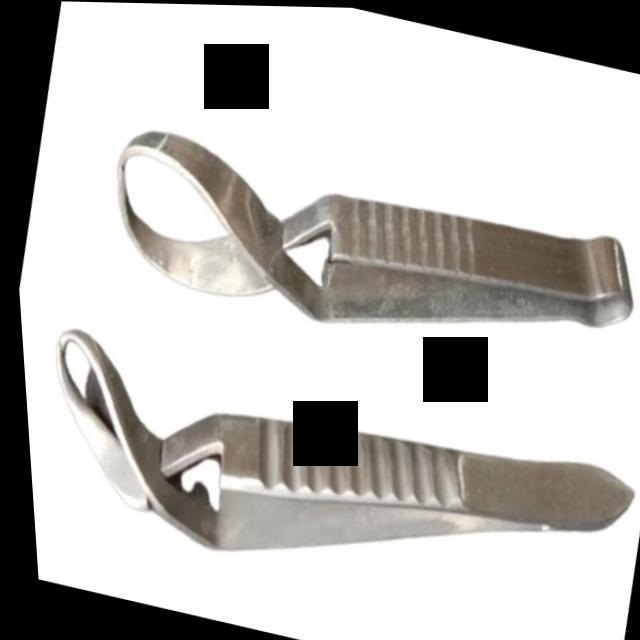Doyen Cross Action Towel Clamp: (85, 102, 640, 394)
